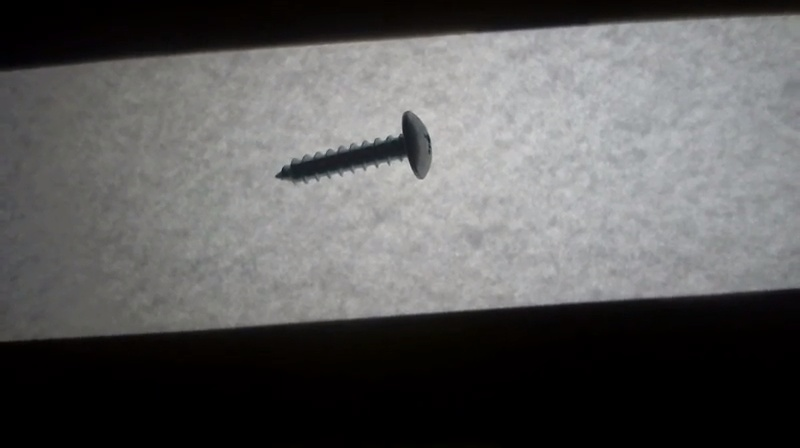S003: (272, 107, 436, 189)
